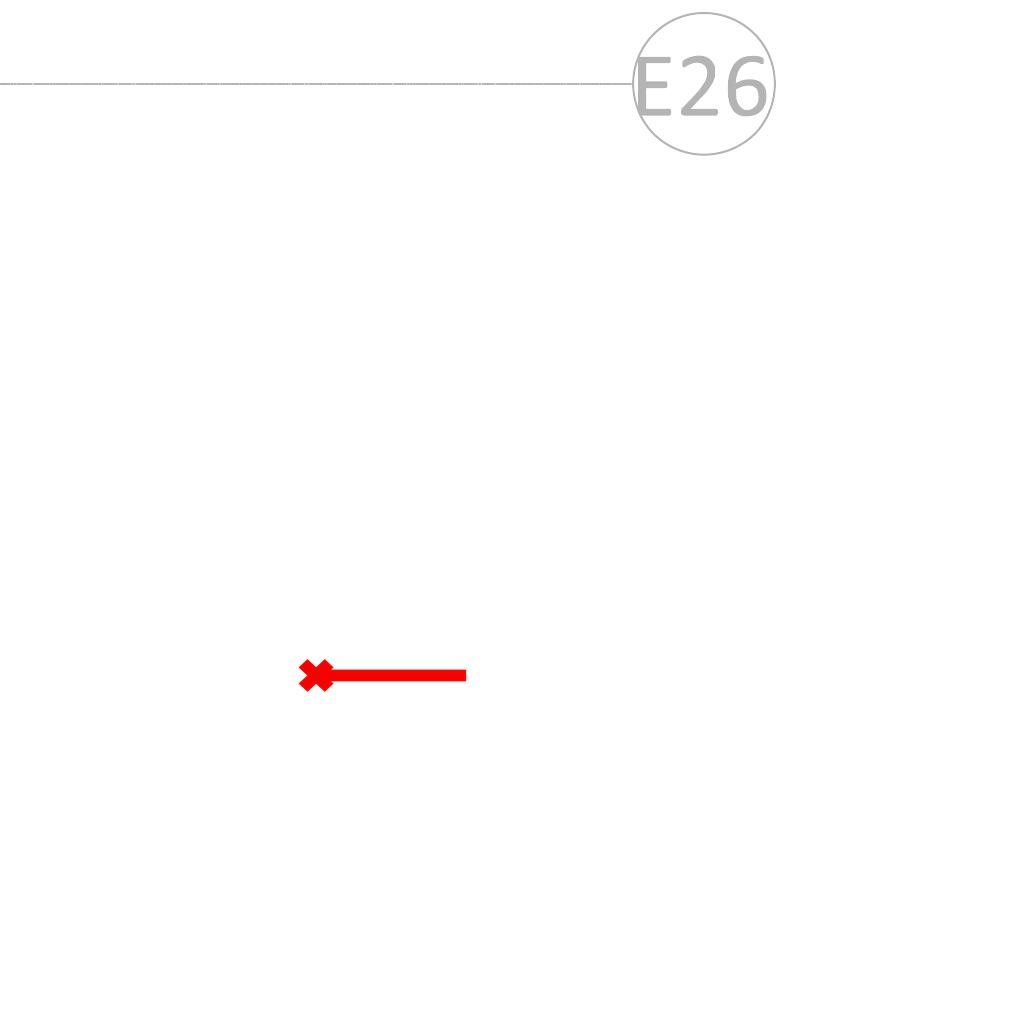ASR_Ansaugoeffnung: (296, 650, 472, 696)
